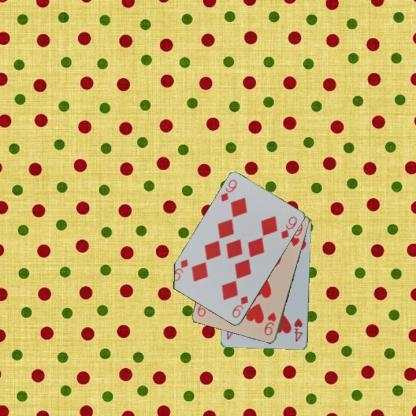4h: (292, 316, 304, 343)
9d: (230, 294, 250, 320), (218, 177, 238, 203)
9h: (262, 310, 278, 337)
